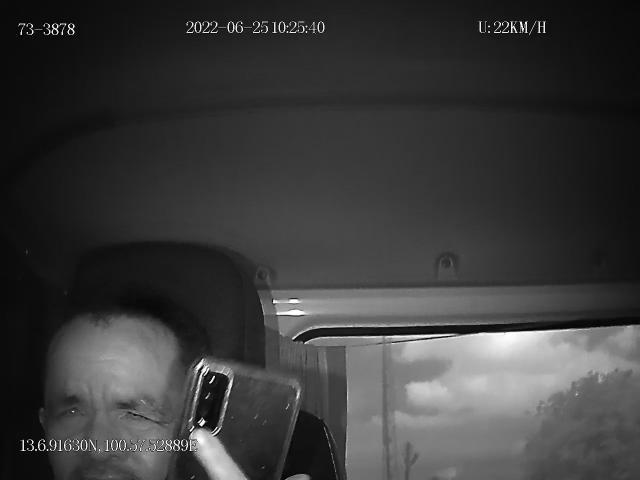PhoneUse: (170, 356, 300, 480)
SafeDriving: (51, 396, 93, 433)
